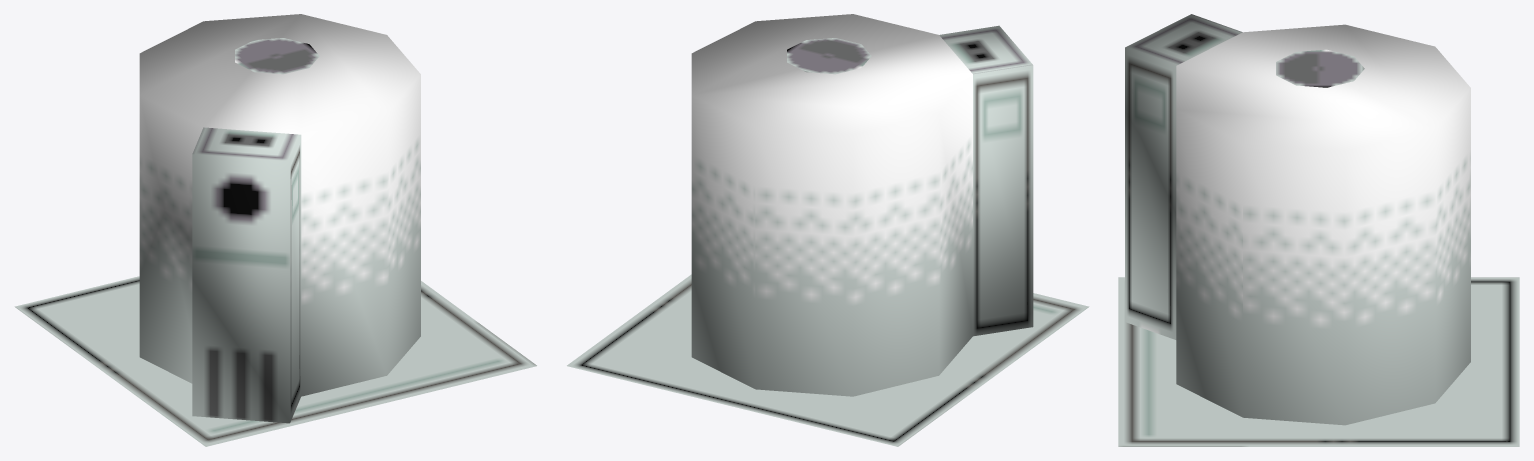
The model's file is Bld_Oil_Refinery_Small_3.fbx.
3 renders of one model, left to right at view 1: azimuth 30°, elevation 25°; view 2: azimuth 150°, elevation 25°; view 3: azimuth 270°, elevation 25°, orthographic. The views are drawn at different scales.
Visible parts, largest first — view 1: BLD_OilRefinery_Small03; view 2: BLD_OilRefinery_Small03; view 3: BLD_OilRefinery_Small03.
Part boxes in pixels (left/top/right/bottom): BLD_OilRefinery_Small03: left=14, top=14, right=536, bottom=446; BLD_OilRefinery_Small03: left=567, top=14, right=1089, bottom=446; BLD_OilRefinery_Small03: left=1118, top=14, right=1519, bottom=446.
Bounding box in the file's own units: 400 × 400 × 323.
